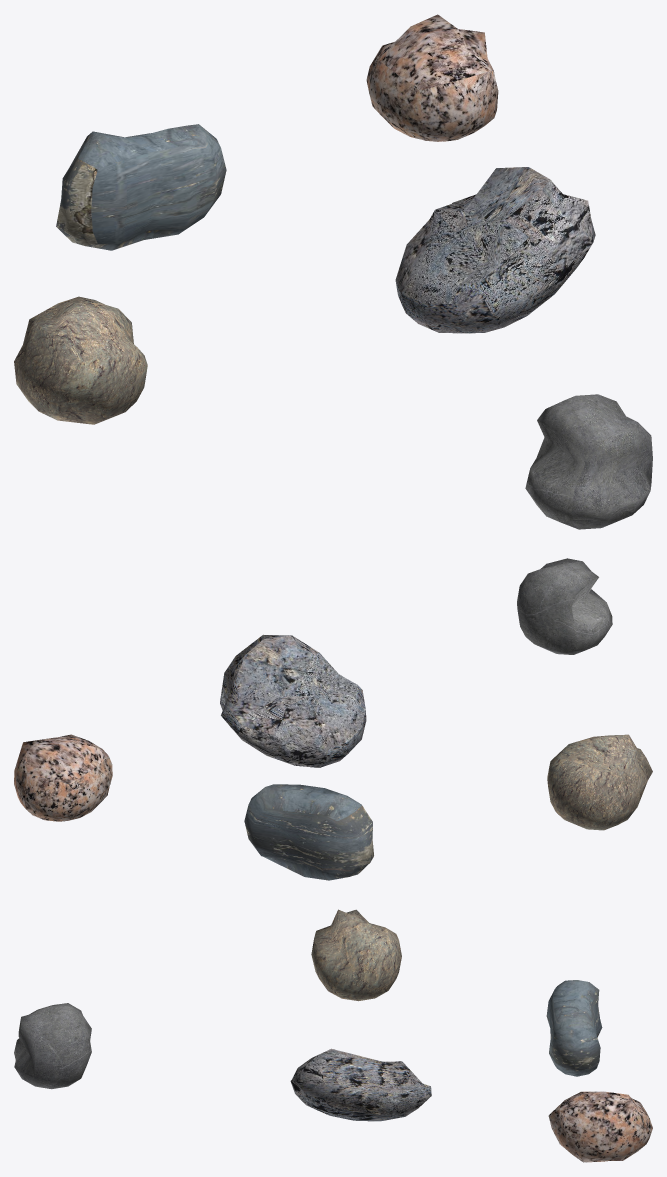
File: rocks.gltf
3 views of the same model, one above another, from view 1: azimuth 30°, elevation 25°; view 2: azimuth 150°, elevation 25°; view 3: azimuth 270°, elevation 25° (orthographic). The views are drawn at different scales.
Parts seen in each view (by area): view 1: Cube, Cube.003, Cube.004, Cube.002, Cube.001; view 2: Cube, Cube.003, Cube.002, Cube.004, Cube.001; view 3: Cube, Cube.002, Cube.001, Cube.004, Cube.003.
Part boxes in pixels (x1,y1,x2,y2): Cube: (395,167,595,333); Cube.003: (56,124,226,250); Cube.004: (525,394,652,529); Cube.002: (14,296,147,424); Cube.001: (366,14,498,141); Cube: (220,634,366,767); Cube.003: (244,784,373,880); Cube.002: (547,734,652,830); Cube.004: (517,558,612,654); Cube.001: (14,734,112,821); Cube: (290,1048,431,1121); Cube.002: (311,909,401,1001); Cube.001: (548,1091,652,1162); Cube.004: (14,1003,91,1089); Cube.003: (546,980,602,1076).
Size of the model in its own units: 7.93 by 1.55 by 10.14.
Materials: 5 (5 with a texture image).
